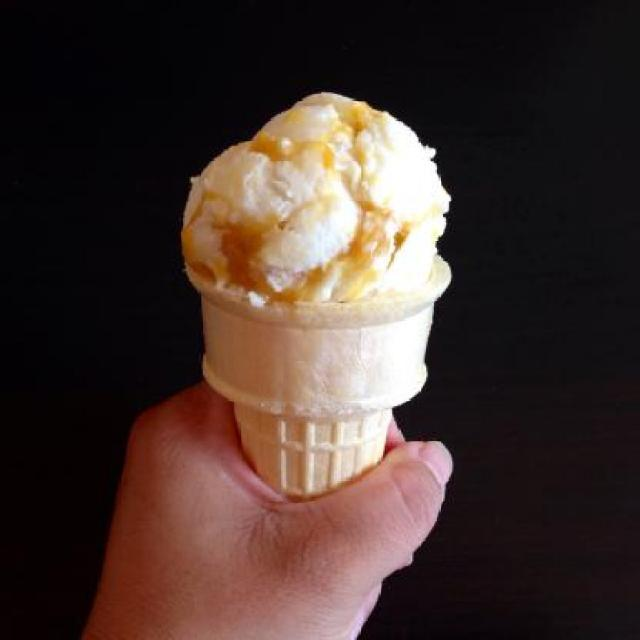Ice cream: (178, 90, 460, 504)
